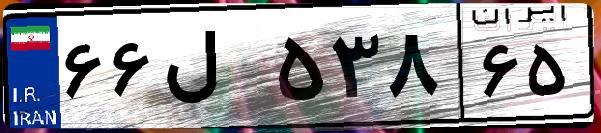3: (330, 28, 385, 110)
5: (270, 28, 330, 110), (525, 38, 570, 115)
6: (57, 26, 110, 100), (475, 38, 525, 113), (110, 28, 158, 98)
8: (385, 28, 445, 110)
ل: (158, 20, 270, 120)
